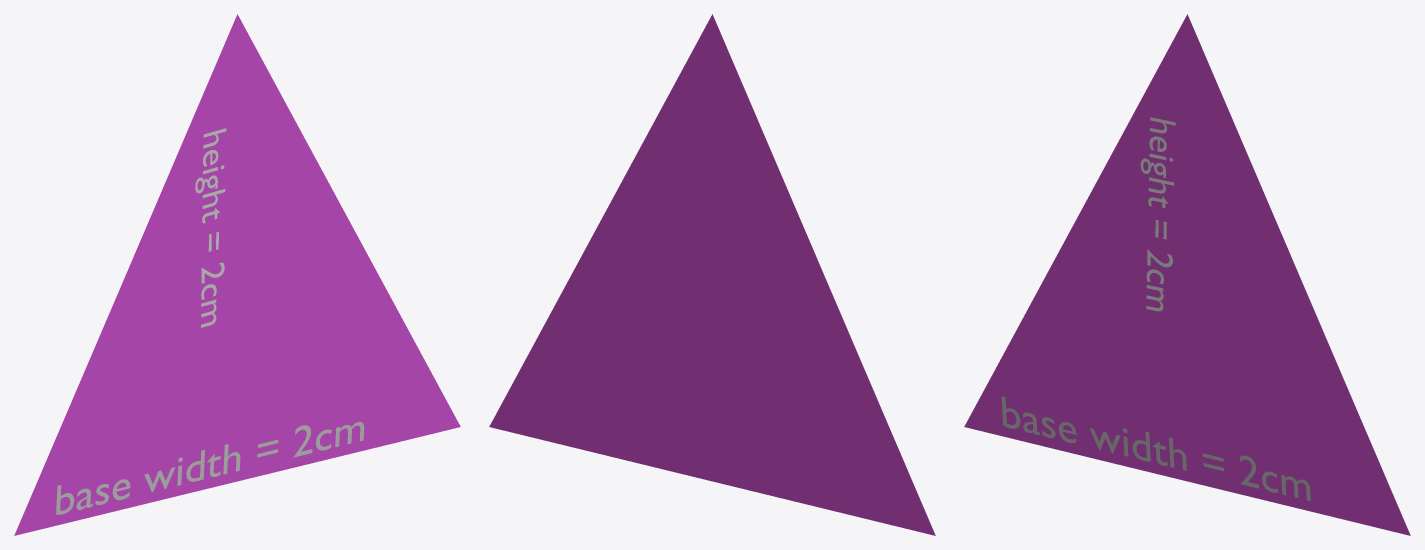
The model's file is trianglew2_h2.glb.
3 views of the same model, side by side, from view 1: azimuth 30°, elevation 25°; view 2: azimuth 150°, elevation 25°; view 3: azimuth 330°, elevation 25° (orthographic).
Visible parts, largest first — view 1: Cone, Text, Text.001; view 2: Cone; view 3: Cone, Text, Text.001.
Part boxes in pixels (x1,y1,x2,y2): Cone: (14, 14, 460, 535); Text: (56, 422, 364, 514); Text.001: (195, 128, 226, 327); Cone: (489, 14, 935, 535); Cone: (964, 14, 1410, 535); Text: (1001, 396, 1310, 501); Text.001: (1140, 117, 1175, 311).
Size of the model in its own units: 0.2 by 0.2 by 0.00226.
